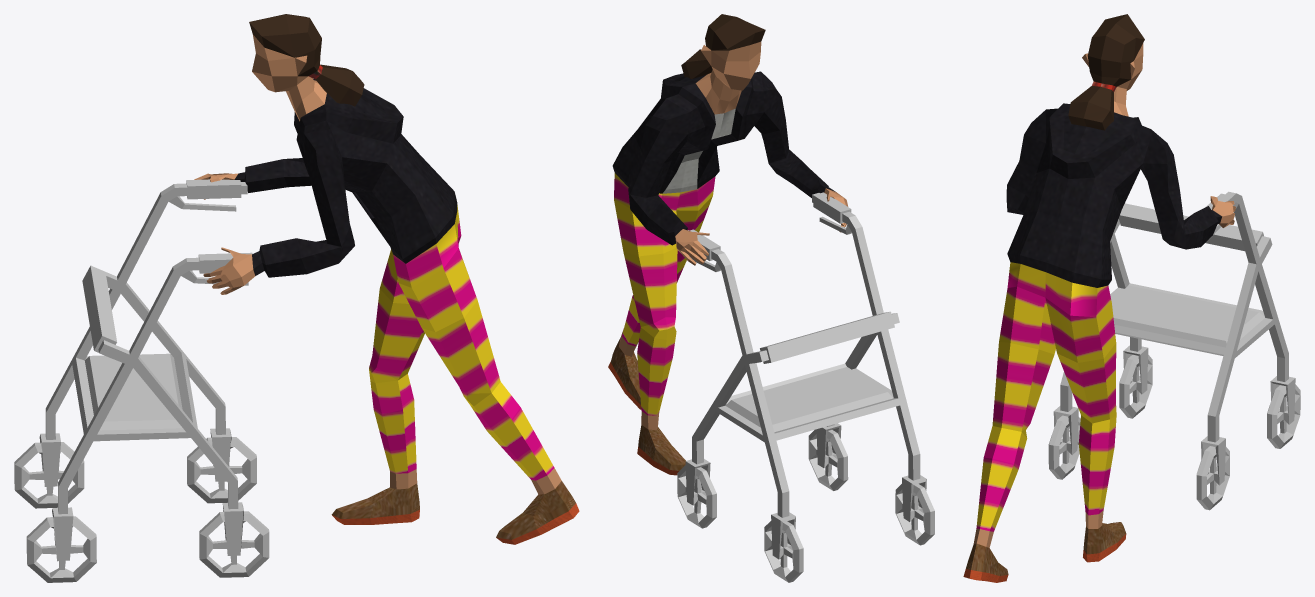
File: Disabled People9.fbx
3 renders of one model, left to right at view 1: azimuth 30°, elevation 25°; view 2: azimuth 150°, elevation 25°; view 3: azimuth 270°, elevation 25°, orthographic. The views are drawn at different scales.
Visible parts, largest first — view 1: OfficeWomanB.016; view 2: OfficeWomanB.016; view 3: OfficeWomanB.016.
Boxes of the visible parts, <box> form: OfficeWomanB.016: <box>14,14,579,582</box>; OfficeWomanB.016: <box>608,14,934,582</box>; OfficeWomanB.016: <box>963,14,1300,582</box>.
Bounding box in the file's own units: 142 × 156 × 97.73.
